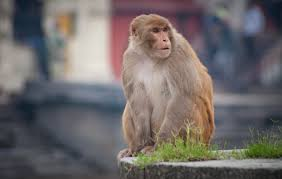monkey: (83, 5, 251, 164)
